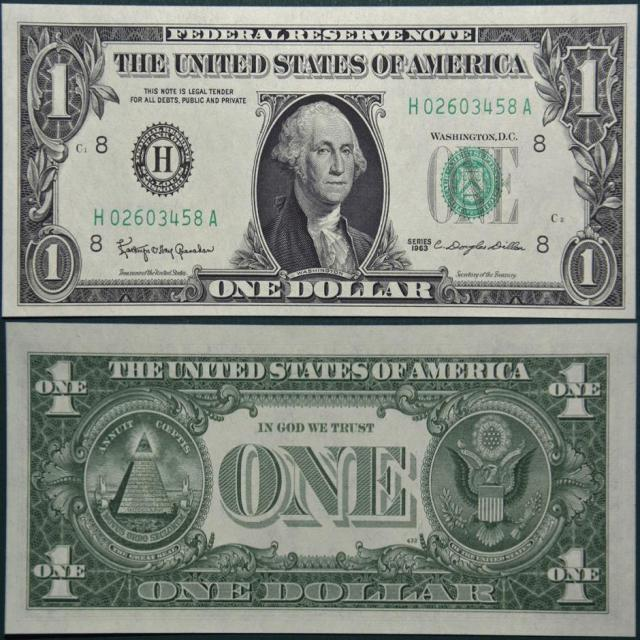1-Back: (4, 322, 640, 640)
1-Front: (0, 2, 640, 318)
